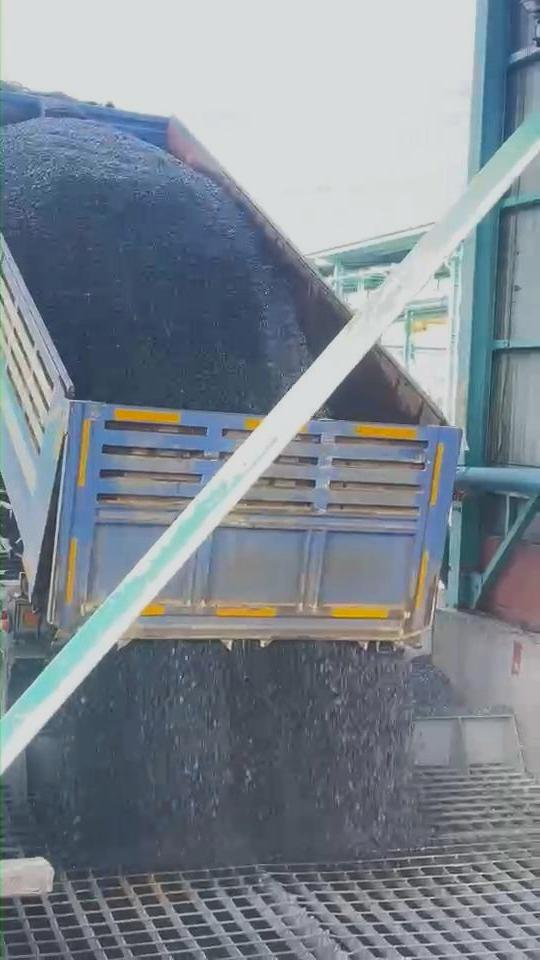gravel: (3, 118, 311, 412), (52, 641, 412, 868), (410, 656, 511, 717)
